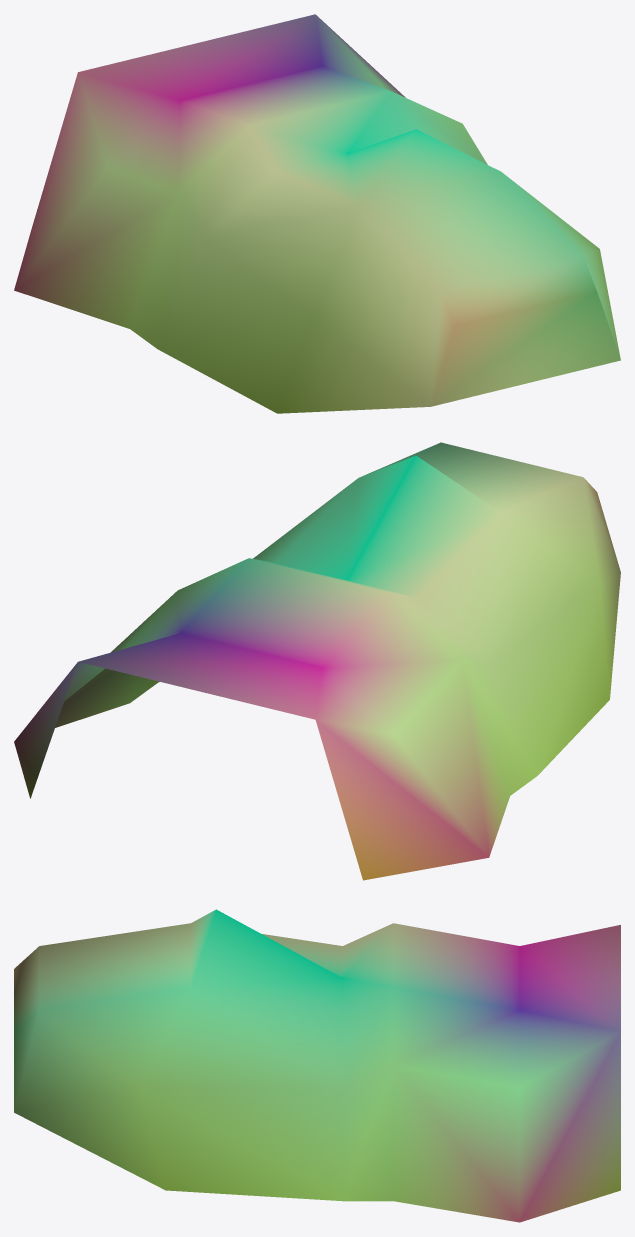
3 views of the same model, one above another, from view 1: azimuth 30°, elevation 25°; view 2: azimuth 150°, elevation 25°; view 3: azimuth 270°, elevation 25° (orthographic). The views are drawn at different scales.
Parts seen in each view (by area): view 1: part; view 2: part; view 3: part.
Part boxes in pixels (left/top/right/bottom): part: left=14, top=14, right=620, bottom=413; part: left=14, top=442, right=620, bottom=880; part: left=14, top=909, right=620, bottom=1222.
Bounding box in the file's own units: 20 × 9 × 24.
